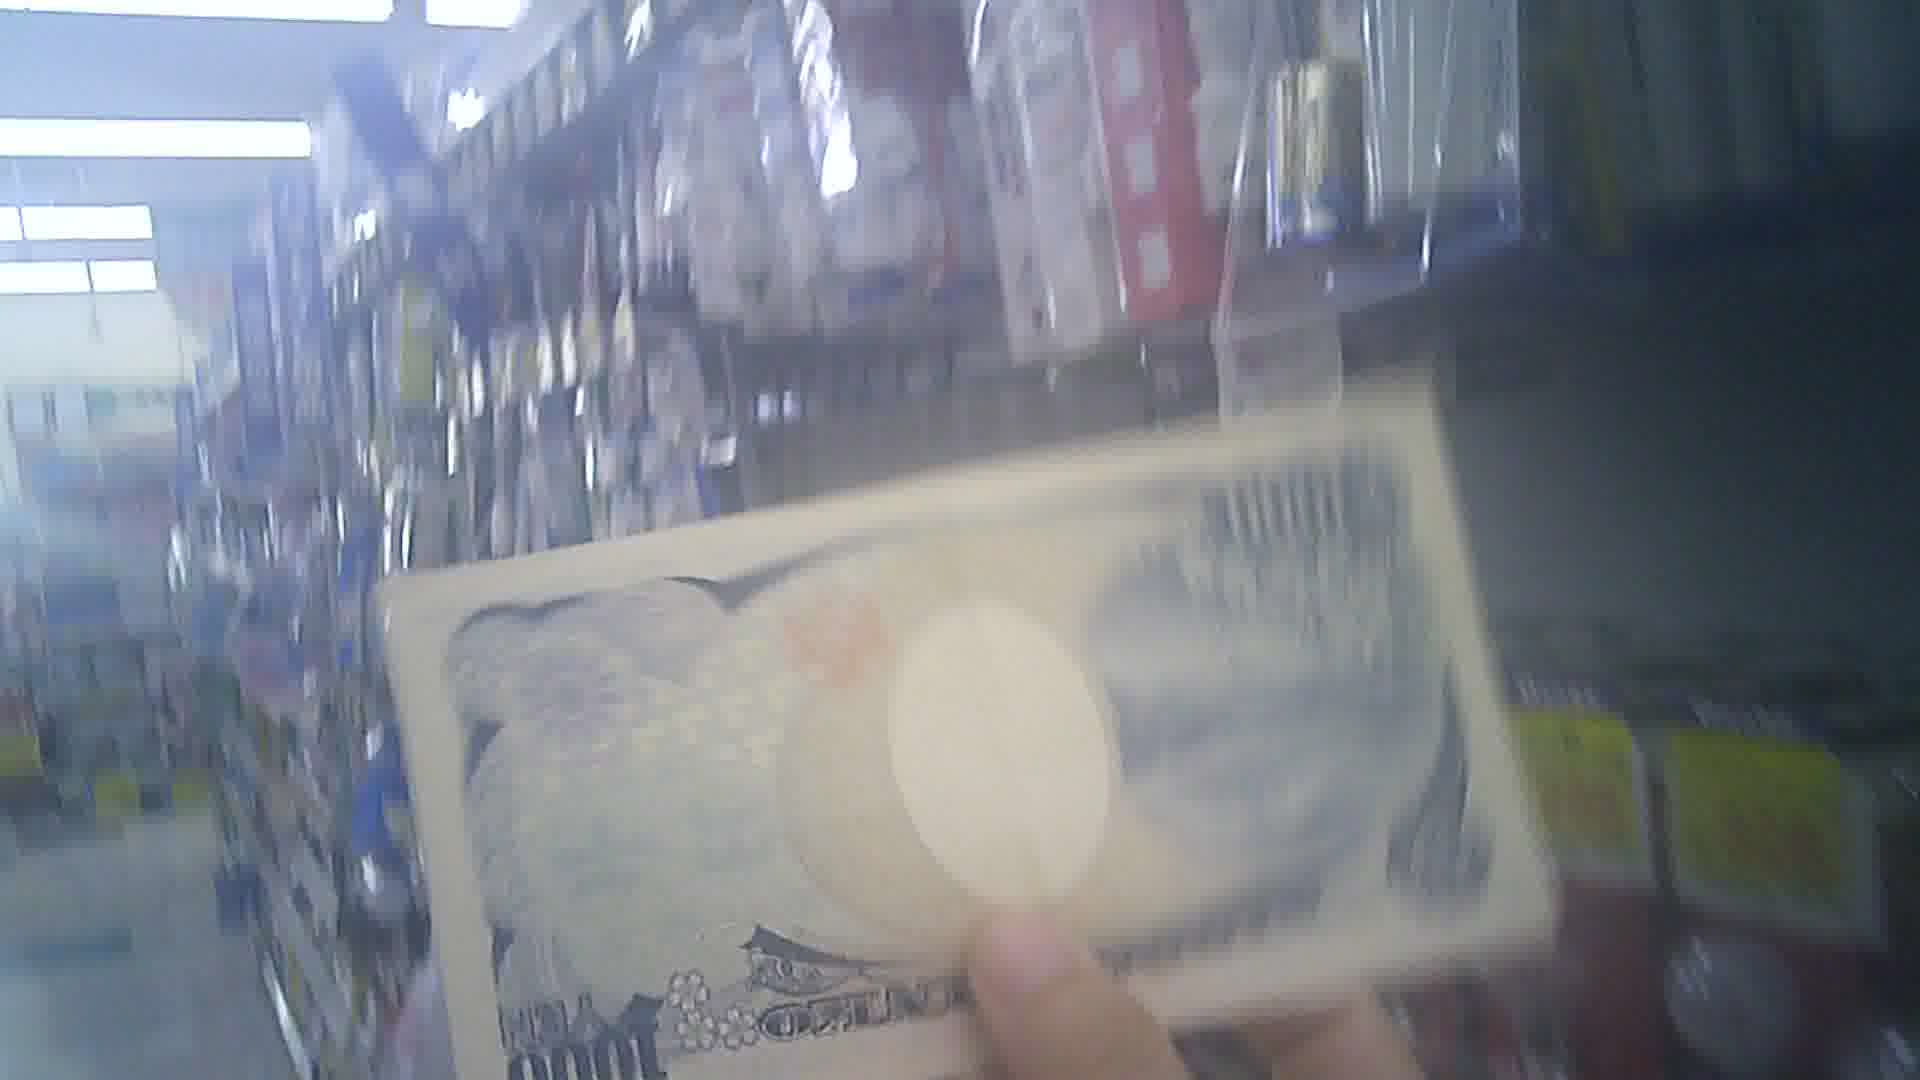1,000 Yen: (402, 406, 1516, 1079)
